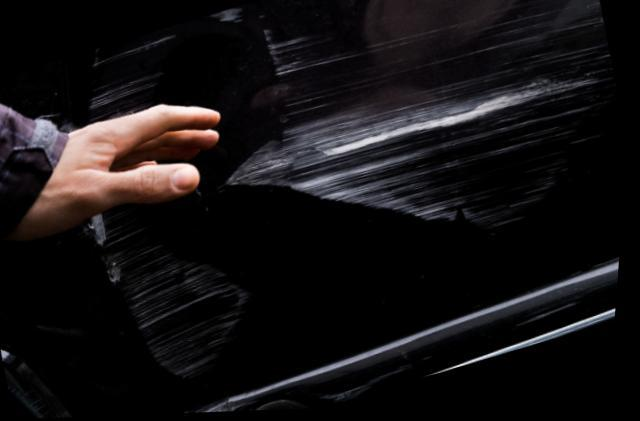scratch: (195, 0, 618, 236), (92, 204, 245, 383), (91, 28, 171, 114)
